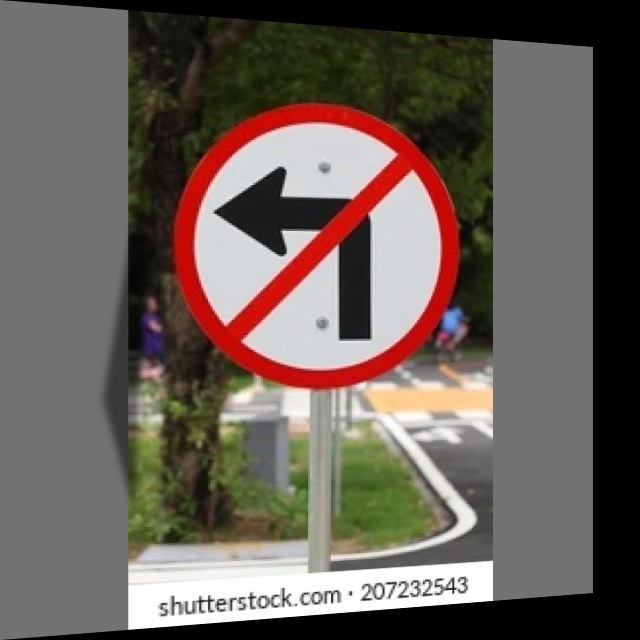Left_Turn_Prohibited: (173, 94, 463, 395)
